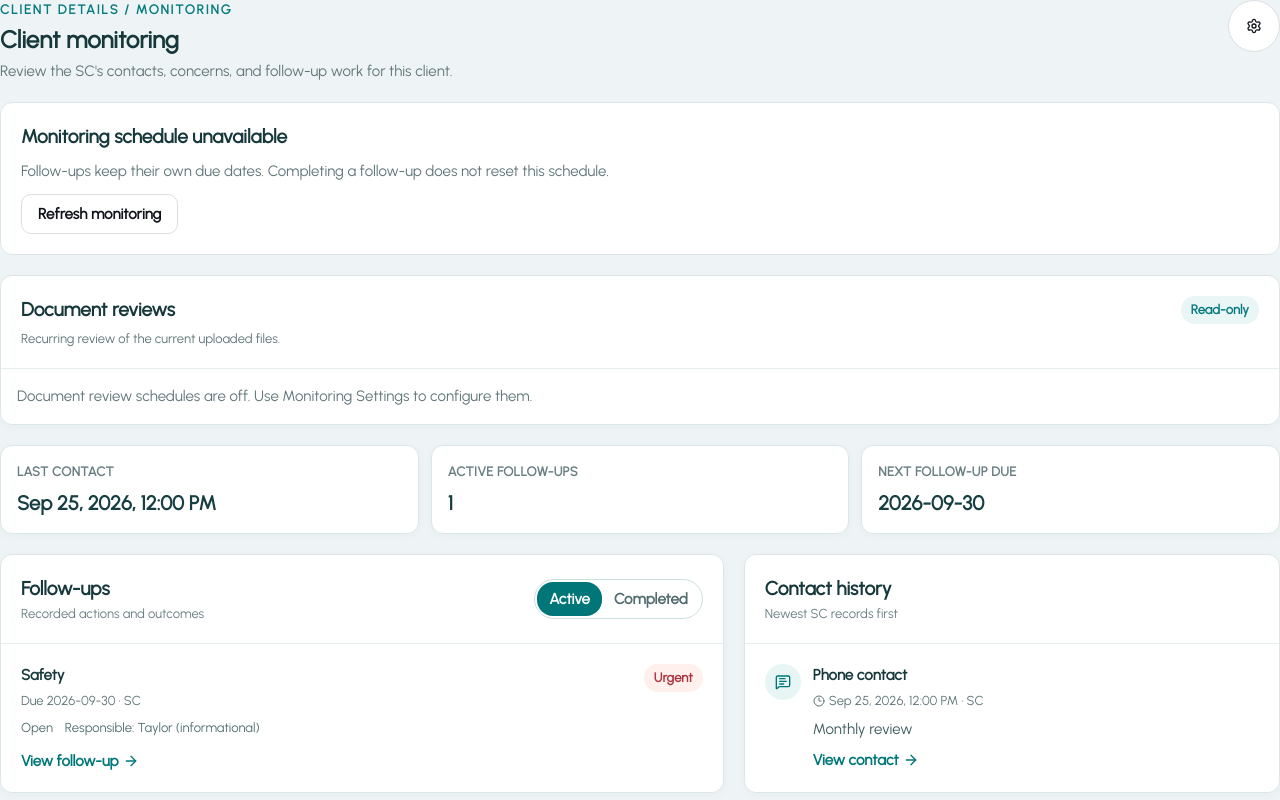
Test case: restores active records when a completed request is aborted by switching tabs
The image size is (1280, 800).
Check: the text "Monthly review" is shown, box [813, 720, 912, 738]
What coordinates should you click on to do the following:
click the button "Completed"
I would click on:
 (651, 599)
Its box is [602, 582, 700, 616].
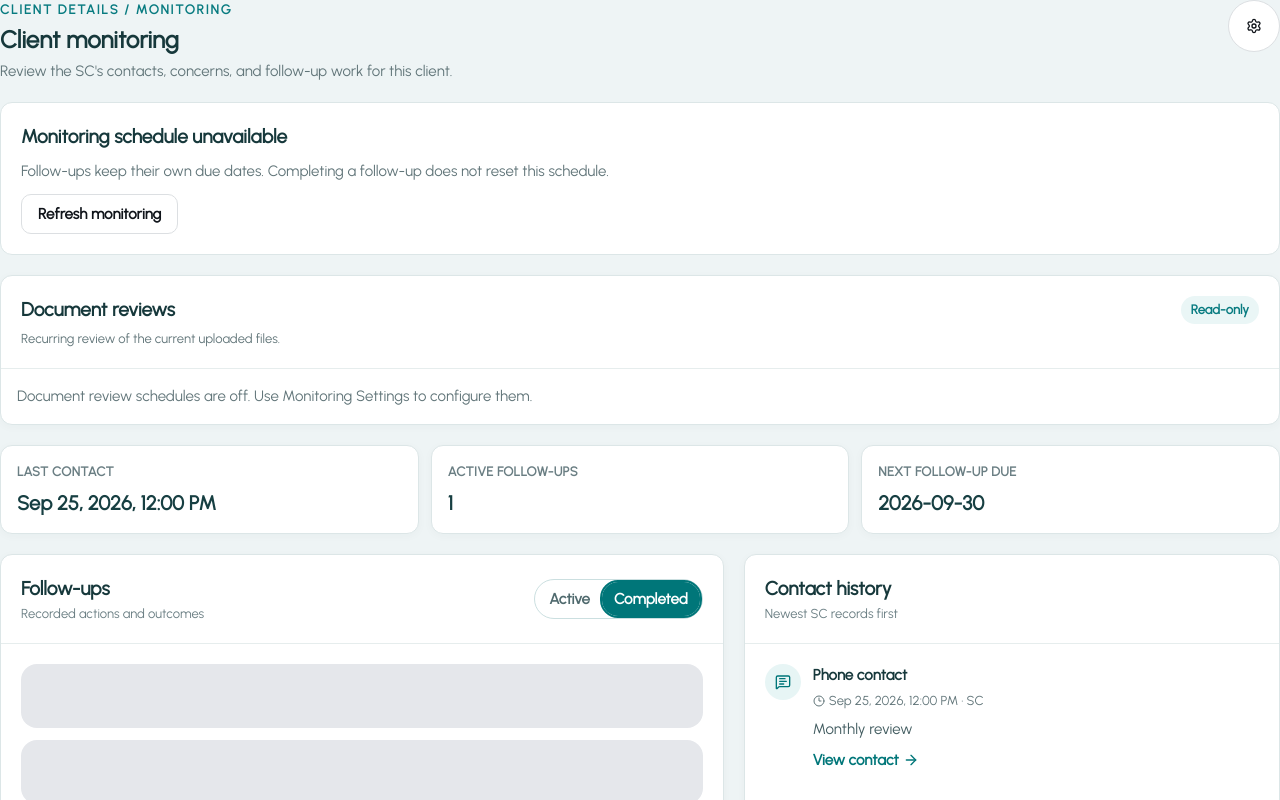
What coordinates should you click on to do the following:
click the button "Active"
I would click on:
 (570, 599)
Its box is [537, 582, 602, 616].
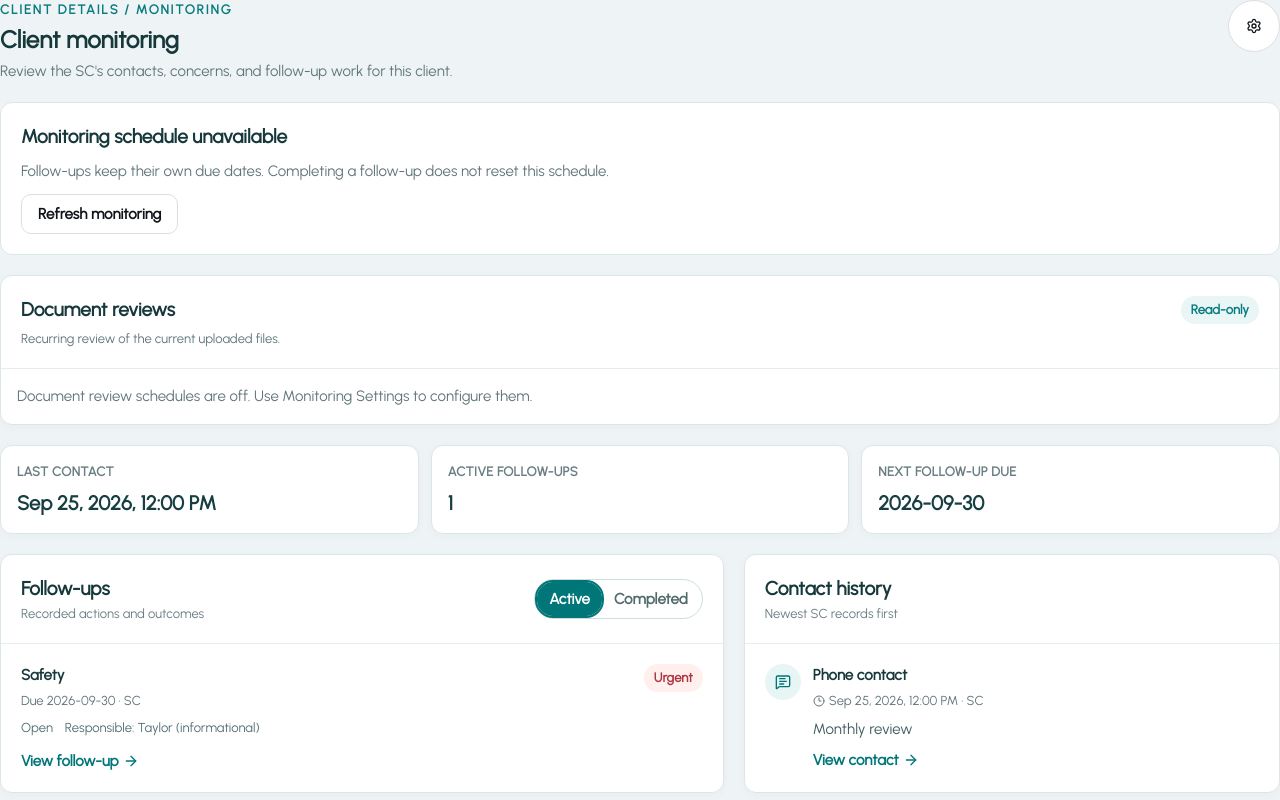
Check: the button "View follow-up" is shown, box [21, 750, 138, 772]
